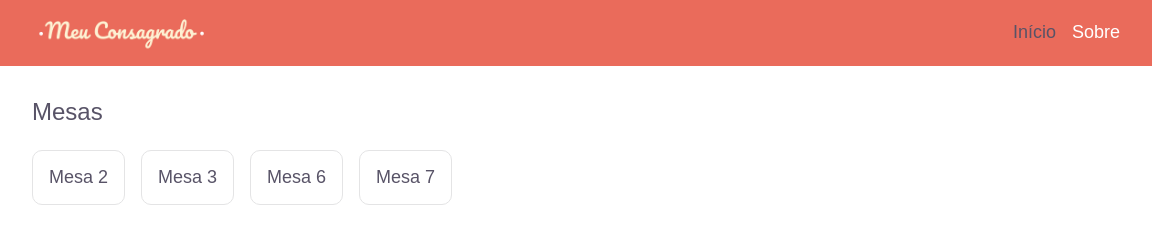
Home Tests › should be able to go to about page
What coordinates should you click on to do the following:
click the link with test id "navbar-link-Sobre"
I would click on:
 (1096, 32)
Its box is [1072,22,1120,42].
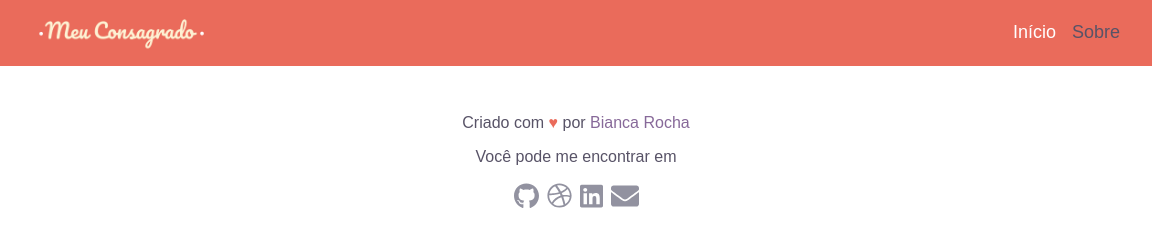
Now the element with test id "about-page" is shown, box [462,114,689,210]
